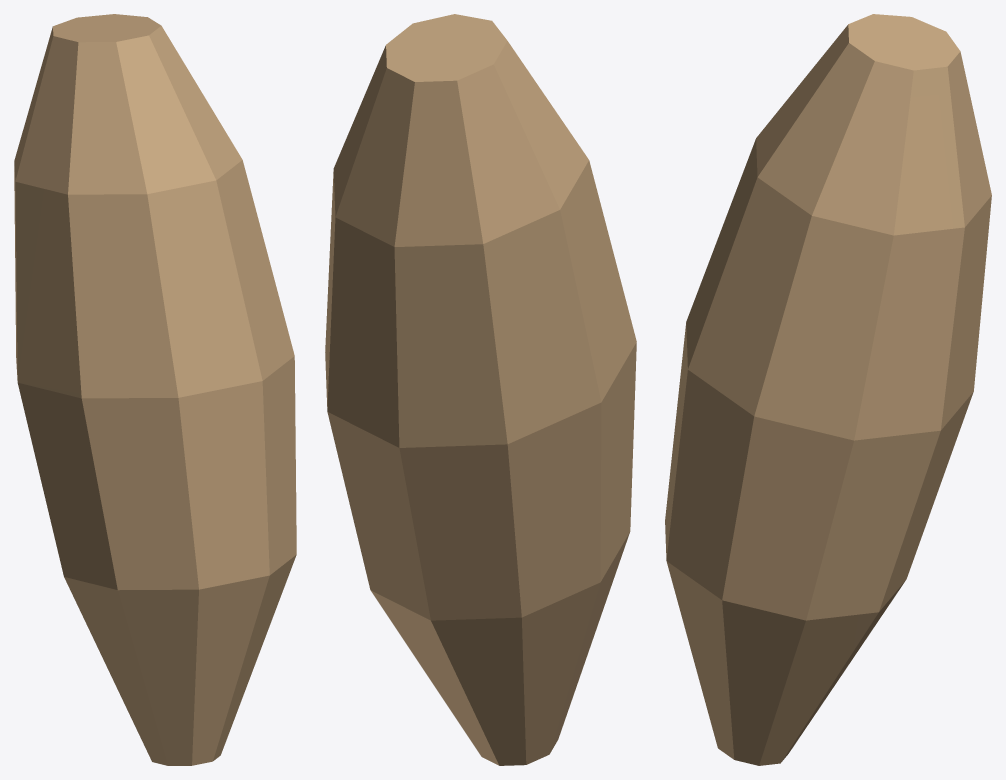
File: Vegetation_Modular_Rush_Frond_Cattail_Pod_01.fbx
The picture shows the model from 3 angles, left to right: view 1: azimuth 30°, elevation 25°; view 2: azimuth 150°, elevation 25°; view 3: azimuth 270°, elevation 25°; orthographic projection. The views are drawn at different scales.
Parts seen in each view (by area): view 1: Vegetation_Modular_Rush_Frond_Cattail_Pod_01; view 2: Vegetation_Modular_Rush_Frond_Cattail_Pod_01; view 3: Vegetation_Modular_Rush_Frond_Cattail_Pod_01.
Part boxes in pixels (x1,y1,x2,y2): Vegetation_Modular_Rush_Frond_Cattail_Pod_01: [14, 14, 296, 765]; Vegetation_Modular_Rush_Frond_Cattail_Pod_01: [325, 14, 636, 765]; Vegetation_Modular_Rush_Frond_Cattail_Pod_01: [665, 14, 991, 765].
Bounding box in the file's own units: 4.3 × 11.65 × 4.8.
